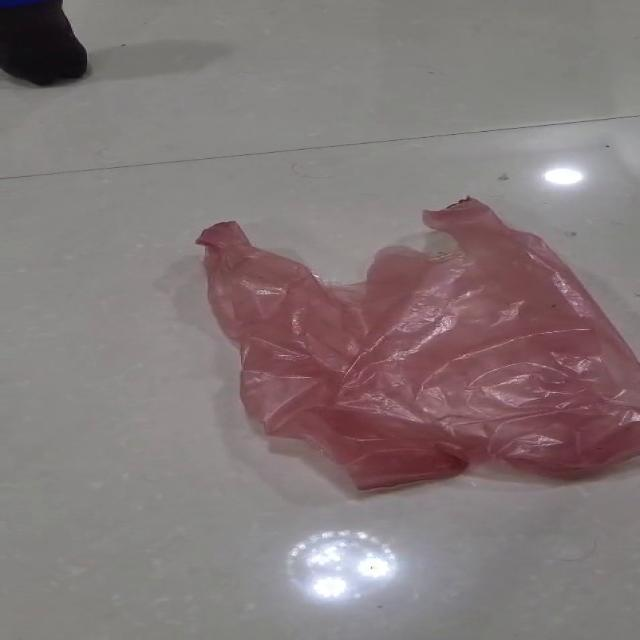plastic: (194, 195, 637, 492)
